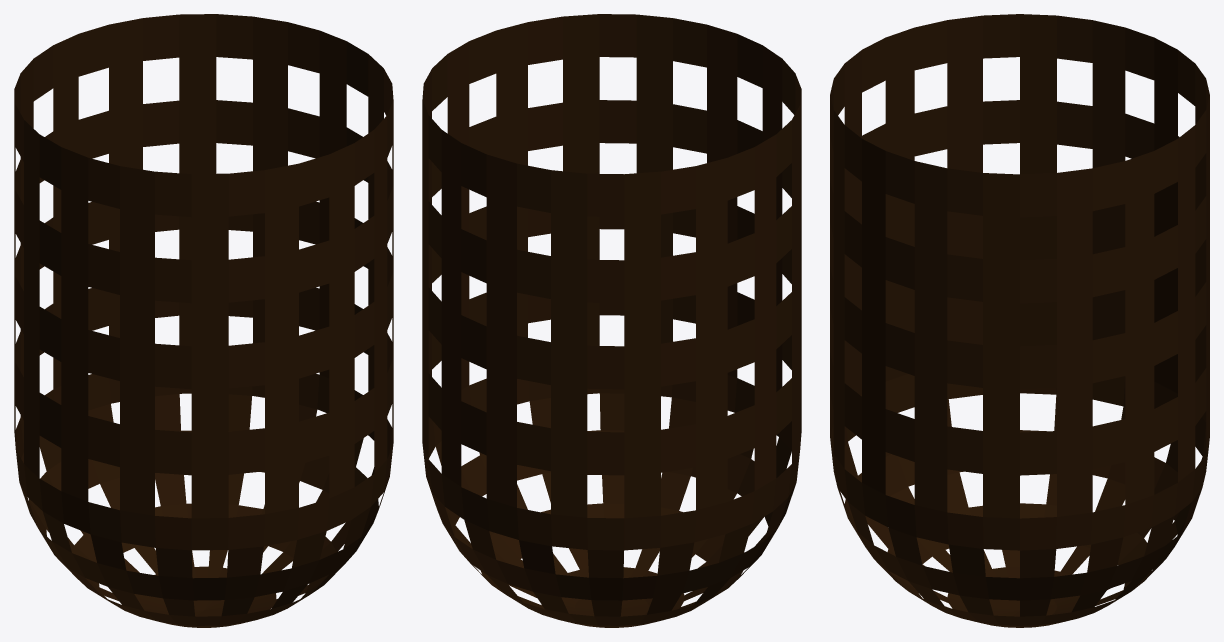
The model's file is pocket_single.fbx.
3 views of the same model, side by side, from view 1: azimuth 30°, elevation 25°; view 2: azimuth 150°, elevation 25°; view 3: azimuth 270°, elevation 25° (orthographic).
Parts seen in each view (by area): view 1: Sphere.002; view 2: Sphere.002; view 3: Sphere.002.
Part boxes in pixels (x1,y1,x2,y2): Sphere.002: (14,14,393,627); Sphere.002: (422,14,801,627); Sphere.002: (830,14,1209,627).
Bounding box in the file's own units: 200 × 300 × 200.
